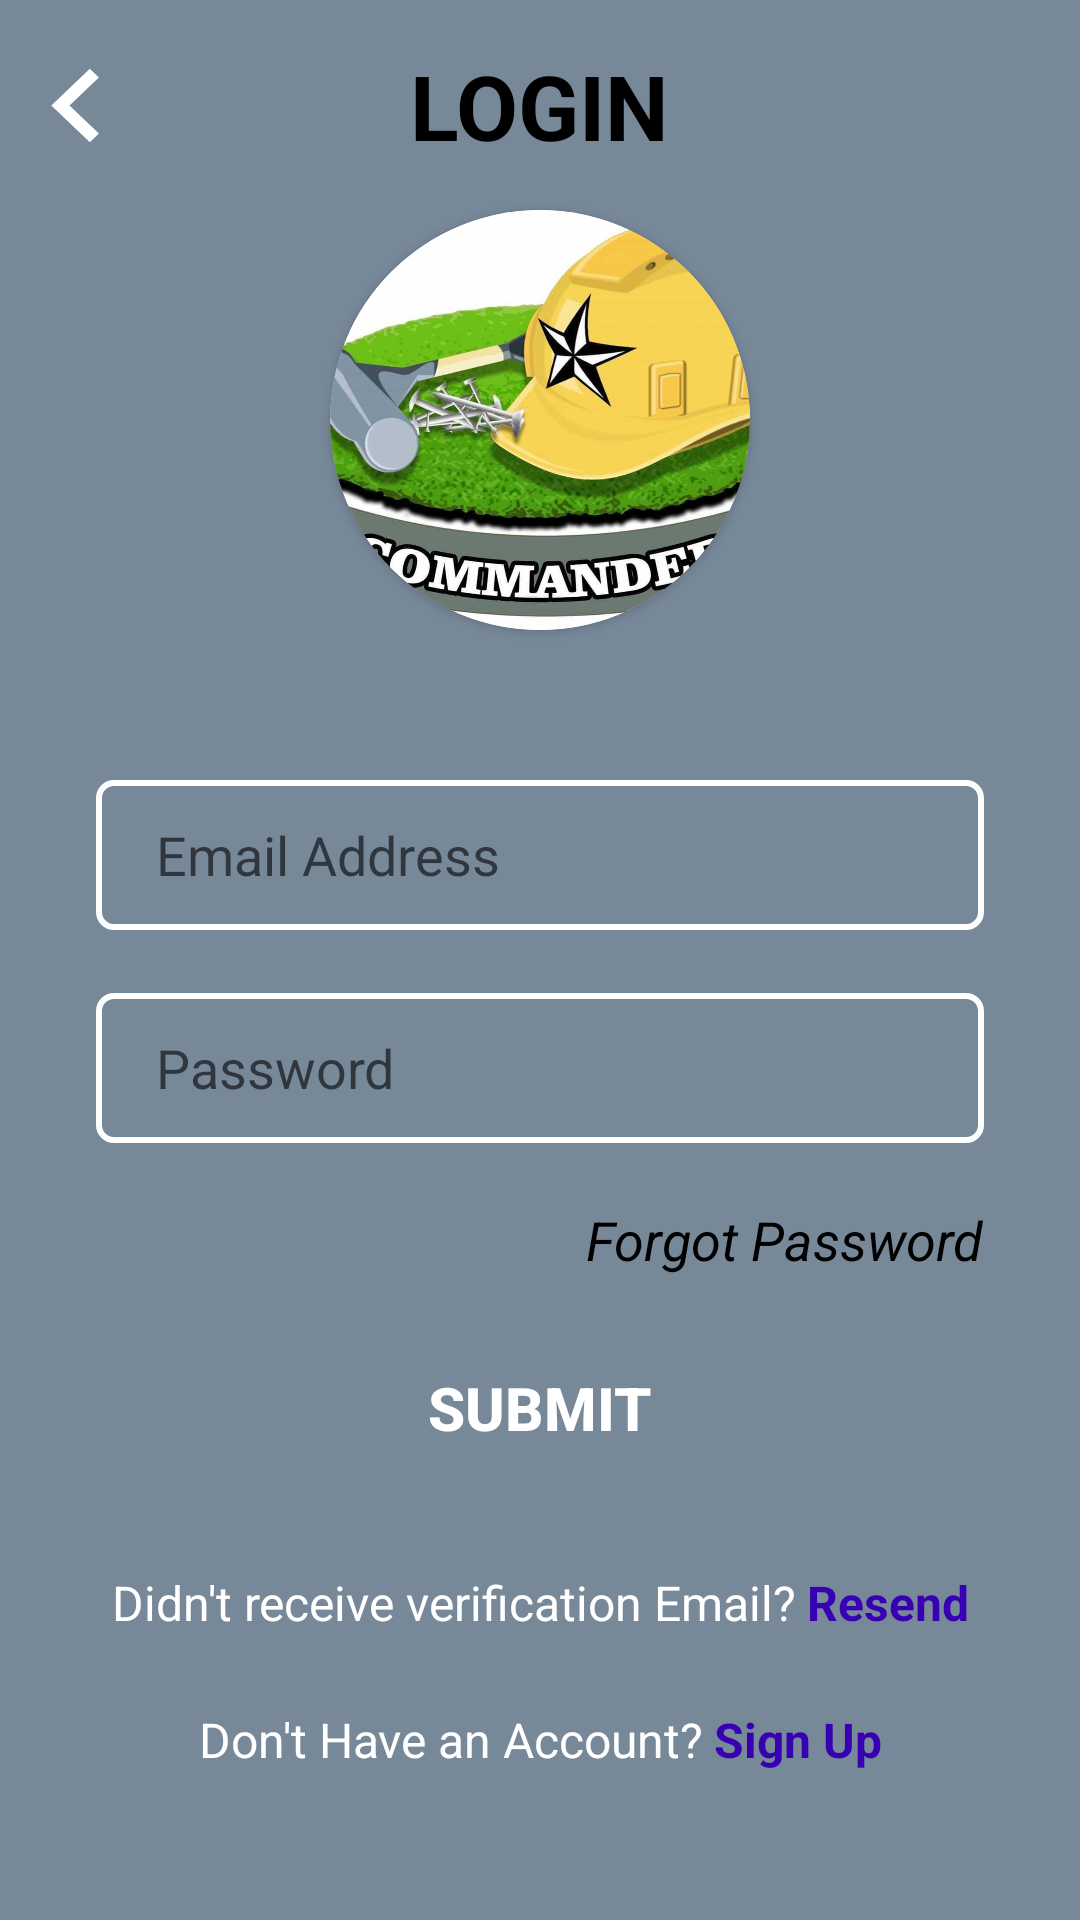

Named icons in this screenshot (1080 × 1920) and their centers, (x=x, y=y):
chevron left: (x=75, y=105)
